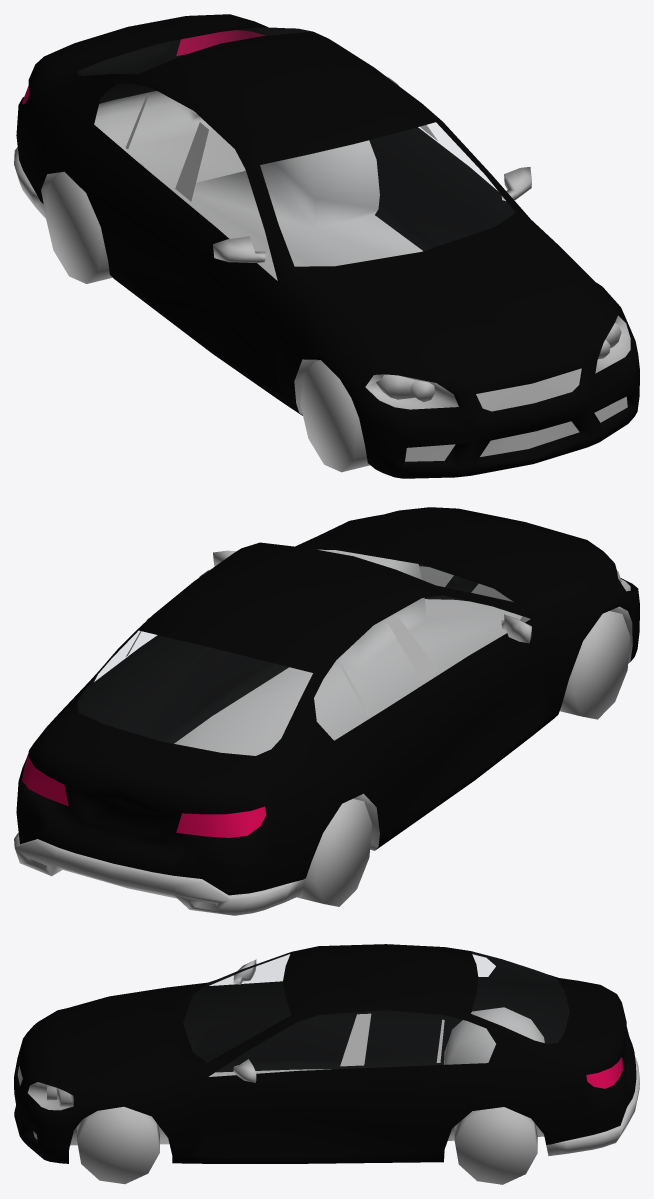
File: Car_51_LOD1.FBX
The picture shows the model from 3 angles, top to bottom: view 1: azimuth 30°, elevation 25°; view 2: azimuth 150°, elevation 25°; view 3: azimuth 270°, elevation 25°; orthographic projection. The views are drawn at different scales.
Visible parts, largest first — view 1: Body_051_LOD1, Matte_051_LOD1, Wheel_R_LOD1, Wheel_Back_R_LOD1, Taillights_051_LOD1, Glass_051_LOD1; view 2: Body_051_LOD1, Matte_051_LOD1, Wheel_Back_R_LOD1, Wheel_R_LOD1, Taillights_051_LOD1, Glass_051_LOD1; view 3: Body_051_LOD1, Matte_051_LOD1, Wheel_Back_L_LOD1, Wheel_L_LOD1, Glass_051_LOD1, Taillights_051_LOD1.
Boxes of the visible parts, <box> form: Body_051_LOD1: <box>16,14,639,478</box>; Matte_051_LOD1: <box>14,76,630,461</box>; Wheel_R_LOD1: <box>300,360,369,472</box>; Wheel_Back_R_LOD1: <box>45,172,112,283</box>; Taillights_051_LOD1: <box>22,30,265,104</box>; Glass_051_LOD1: <box>418,123,496,189</box>; Body_051_LOD1: <box>16,507,639,895</box>; Matte_051_LOD1: <box>14,549,632,915</box>; Wheel_Back_R_LOD1: <box>297,798,372,906</box>; Wheel_R_LOD1: <box>560,611,630,719</box>; Taillights_051_LOD1: <box>22,754,266,837</box>; Glass_051_LOD1: <box>95,550,325,680</box>; Body_051_LOD1: <box>14,944,636,1163</box>; Matte_051_LOD1: <box>17,959,639,1158</box>; Wheel_Back_L_LOD1: <box>454,1107,537,1184</box>; Wheel_L_LOD1: <box>77,1106,159,1184</box>; Glass_051_LOD1: <box>210,954,495,985</box>; Taillights_051_LOD1: <box>586,1057,622,1088</box>.
Bounding box in the file's own units: 2.11 × 1.42 × 4.9.
